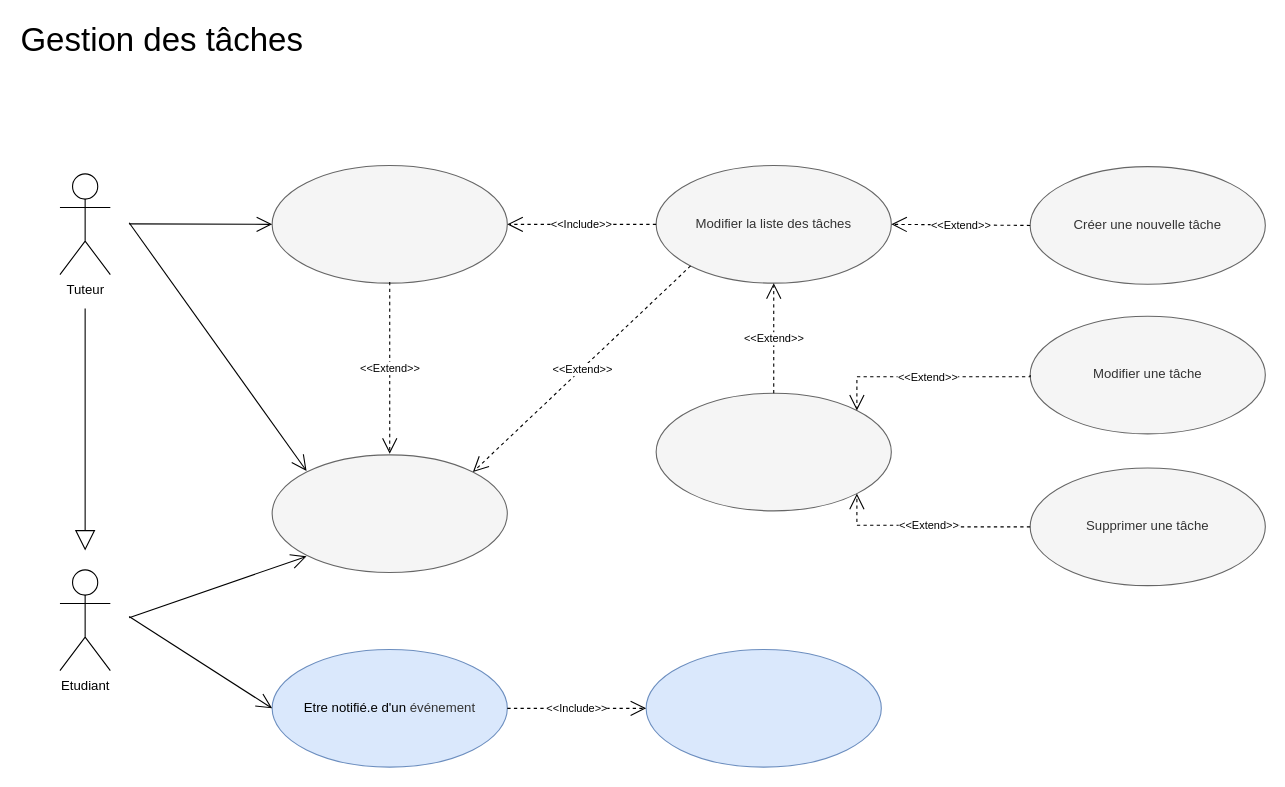
Some shapes in this 1285 by 787 pixel diagram are drawn without their labels. Each missing label, with the box of its shape:
Afficher les nouvelles tâches sur le tableau de bord: (645, 648, 881, 767)
Consulter la liste des tâches de l'étudiant: (271, 454, 507, 572)
Editer une tâches: (655, 392, 891, 511)
Modérer les tâches d'un étudiant: (271, 164, 507, 283)
